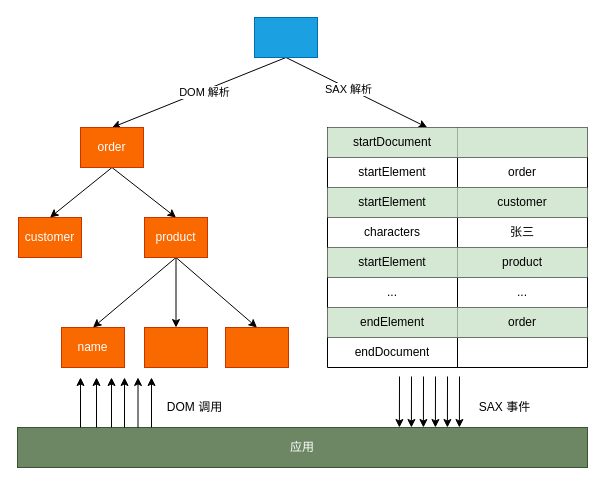
This 605x485 diagram has some shape labels left out. The box of each missing label's shape, as (x1, y1, x2, y2) in pixels:
price: (224, 326, 288, 368)
quality: (144, 326, 208, 368)
xml 文件: (254, 16, 318, 58)
